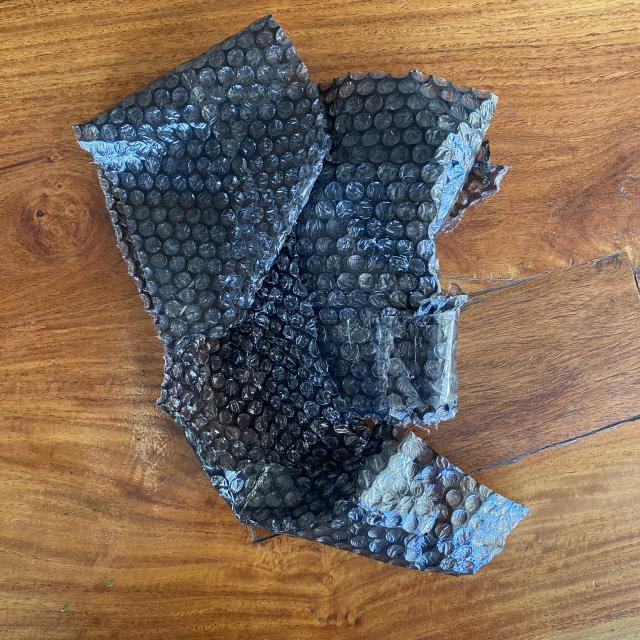Single-layer Plastic: (75, 16, 529, 575)
